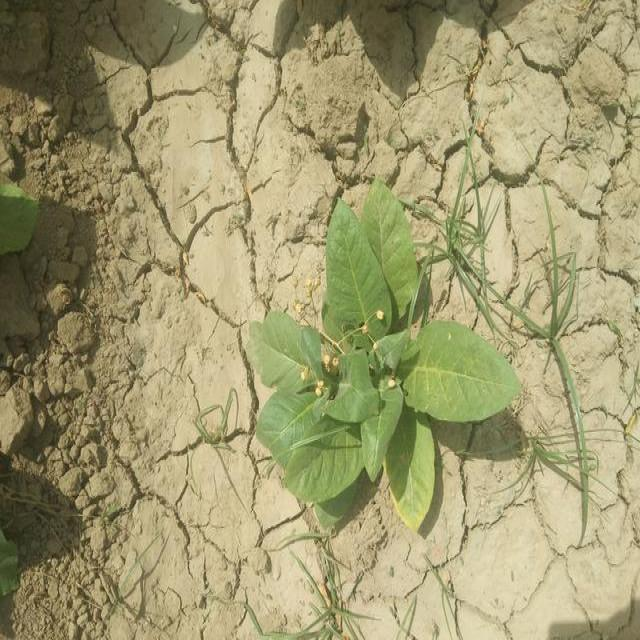crop: (240, 195, 500, 528)
